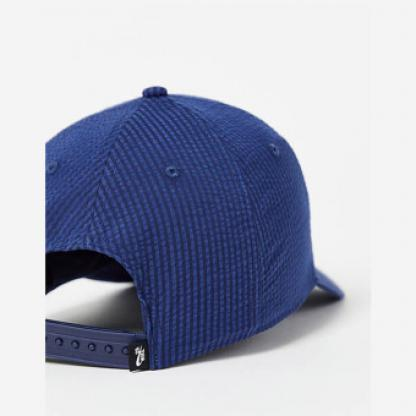cap: (34, 79, 361, 380)
